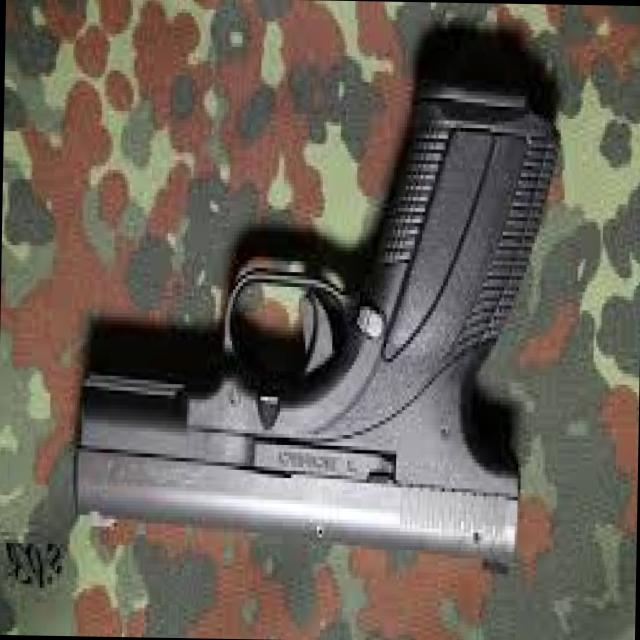Gun: (58, 19, 586, 592)
